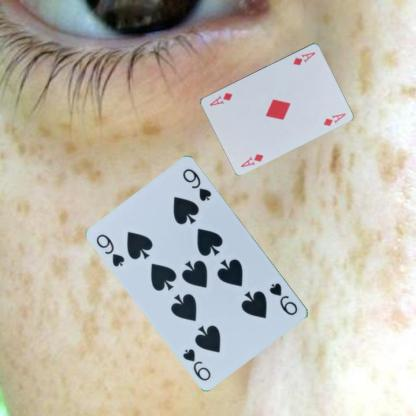9s: (94, 231, 126, 269), (267, 280, 299, 317)
Ad: (290, 49, 316, 67), (238, 151, 265, 168)
